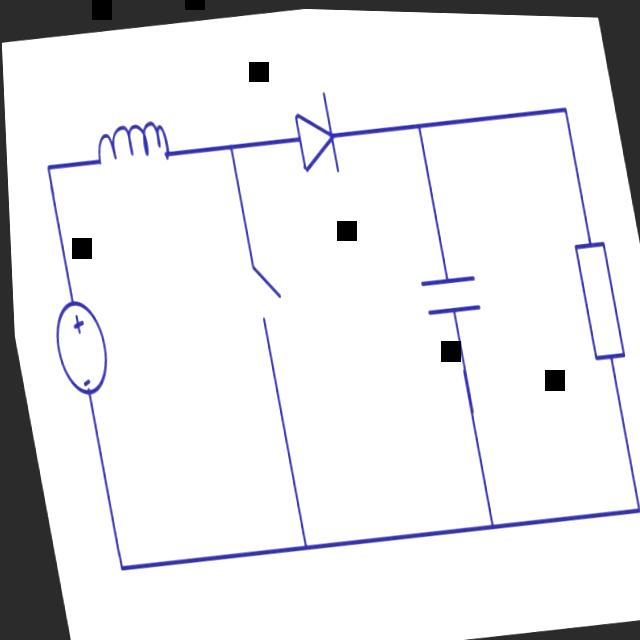capacitor: (390, 243, 498, 354)
diode: (267, 71, 353, 207)
inductor: (71, 91, 219, 229)
resistor: (557, 211, 640, 387)
source: (29, 271, 125, 425)
switch: (227, 237, 298, 358)
